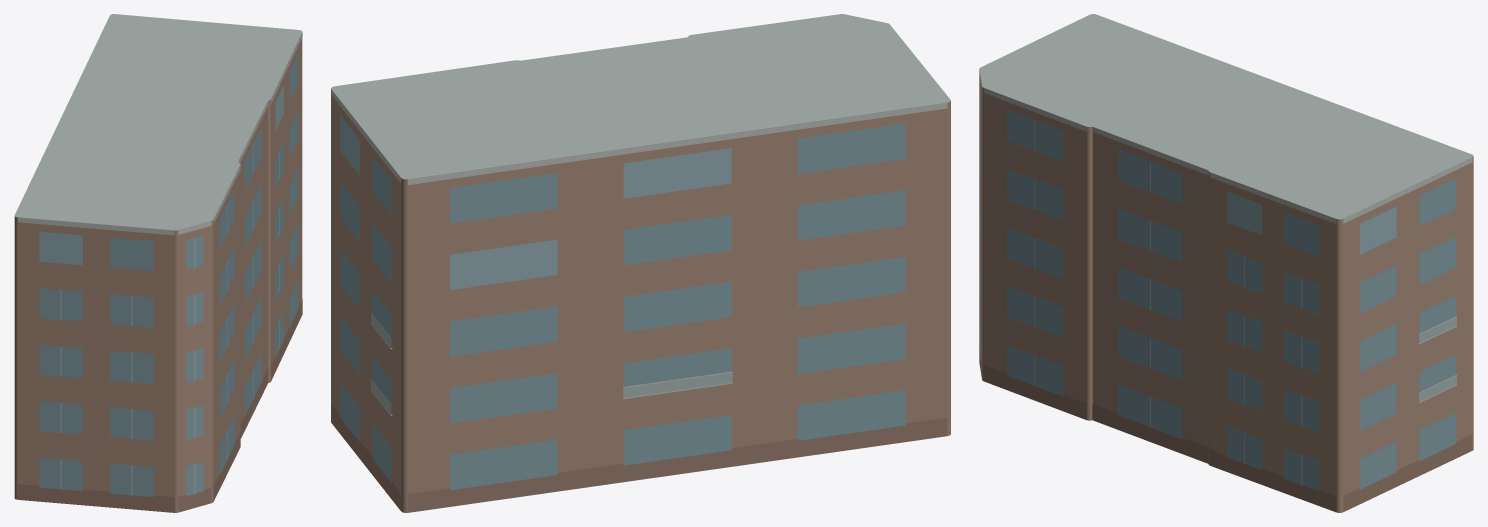
File: survey-upis-33024608.glb
3 renders of one model, left to right at view 1: azimuth 30°, elevation 25°; view 2: azimuth 150°, elevation 25°; view 3: azimuth 270°, elevation 25°, orthographic. The views are drawn at different scales.
Visible parts, largest first — view 1: survey-upis-33024608.tmp; view 2: survey-upis-33024608.tmp; view 3: survey-upis-33024608.tmp.
Boxes of the visible parts, x1,y1,x2,y2 form: survey-upis-33024608.tmp: (14,14,302,512); survey-upis-33024608.tmp: (331,14,950,512); survey-upis-33024608.tmp: (979,14,1473,512).
Size of the model in its own units: 20.87 by 13.9 by 21.22.
